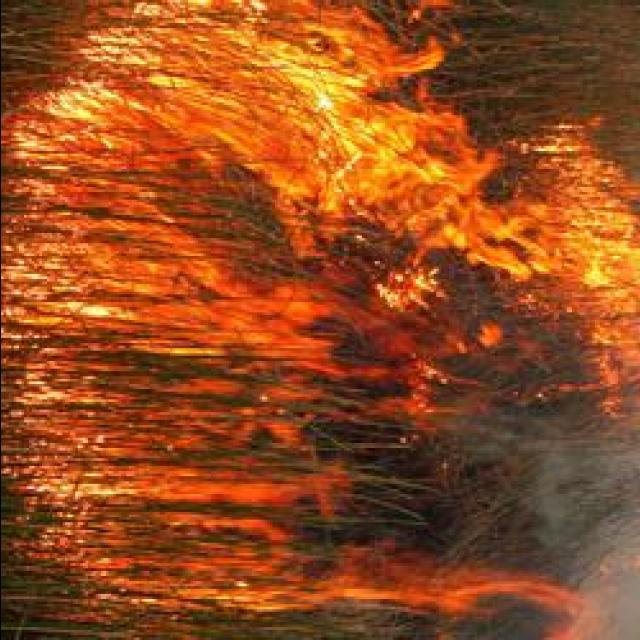fire: (142, 0, 464, 218), (0, 212, 319, 368), (428, 149, 640, 333), (101, 463, 342, 605), (12, 75, 134, 154)
